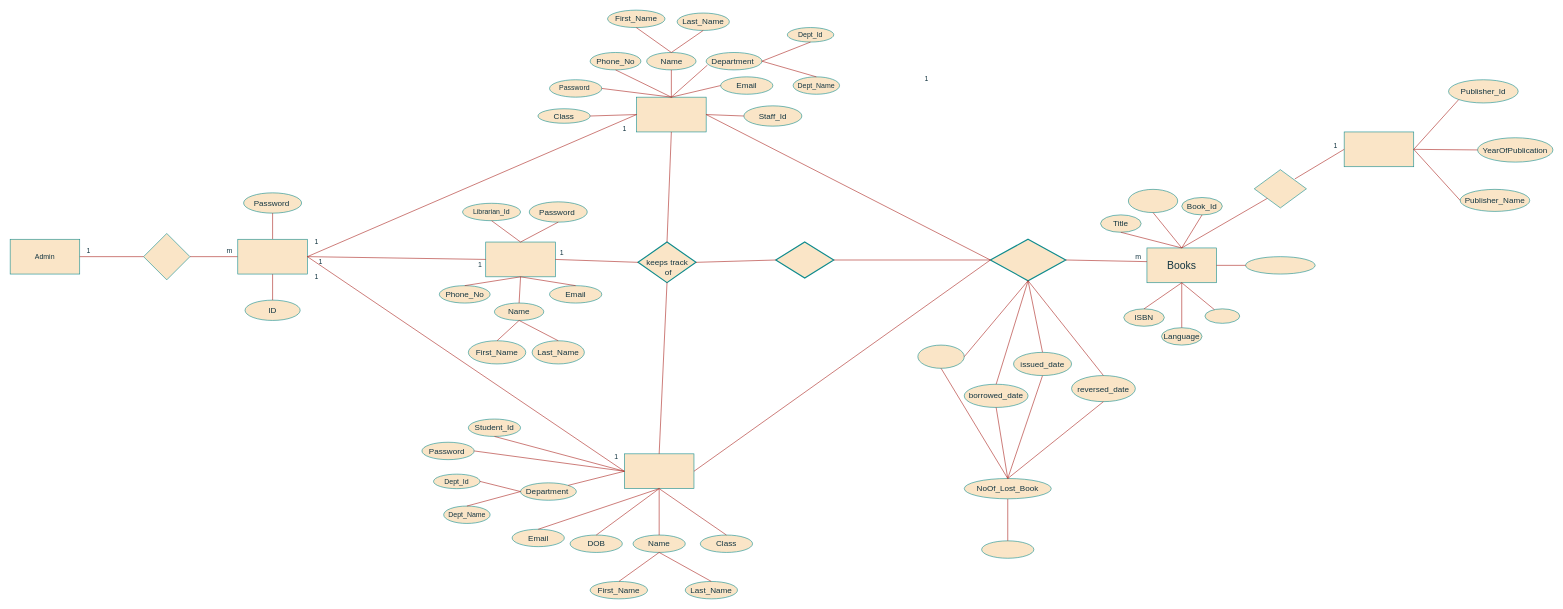
Image size: 1563x609. Some labels were removed from this diagram. The box of each missing label's shape, as (x1, y1, x2, y2) in pixels:
Authentication System: (237, 239, 307, 274)
Book_Name: (1128, 189, 1178, 213)
Genre: (1204, 308, 1240, 323)
Librarian: (485, 241, 555, 277)
Login: (143, 233, 190, 280)
maintain: (775, 241, 834, 278)
NumOfPages: (1245, 256, 1315, 274)
Publisher: (1344, 131, 1414, 167)
publishes: (1254, 169, 1306, 208)
return/ borrow date: (989, 238, 1066, 281)
return_date: (917, 345, 964, 368)
Staff: (636, 97, 706, 132)
Student: (624, 453, 694, 489)
Total_Fine: (981, 540, 1034, 558)
